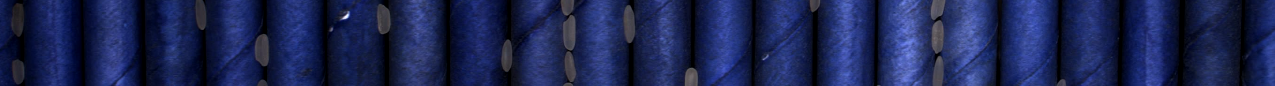broken_grain: (931, 55, 948, 86), (682, 64, 701, 86), (929, 1, 948, 21), (557, 1, 575, 17)
complete_grain: (621, 4, 639, 45), (9, 1, 28, 36), (254, 31, 271, 68), (930, 19, 947, 55), (562, 13, 577, 53), (375, 3, 392, 36), (9, 57, 28, 86), (499, 38, 513, 73), (194, 1, 210, 31), (564, 50, 578, 83)
